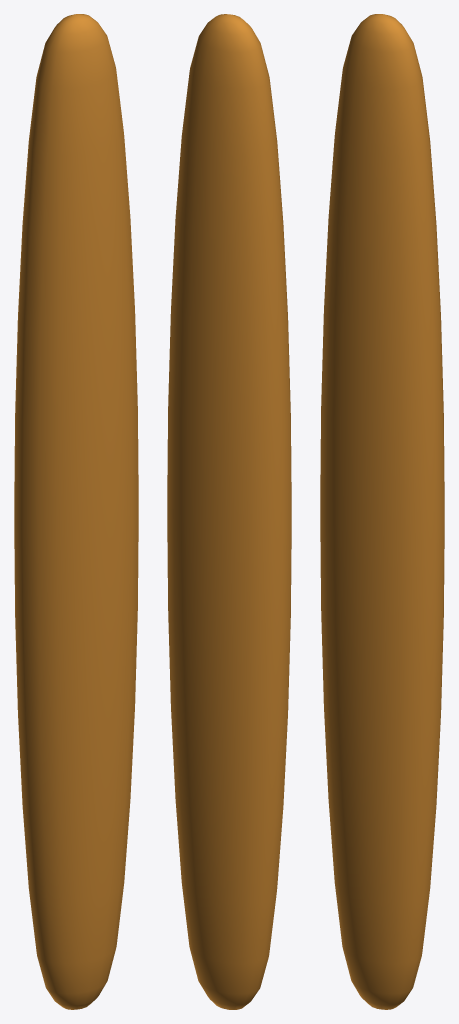
File: Pan.FBX
3 views of the same model, side by side, from view 1: azimuth 30°, elevation 25°; view 2: azimuth 150°, elevation 25°; view 3: azimuth 330°, elevation 25° (orthographic).
Parts seen in each view (by area): view 1: Pan; view 2: Pan; view 3: Pan.
Boxes of the visible parts, left/top/right/bottom form: Pan: left=14, top=14, right=138, bottom=1009; Pan: left=167, top=14, right=291, bottom=1009; Pan: left=320, top=14, right=444, bottom=1009.
Bounding box in the file's own units: 15.21 × 11.04 × 126.
